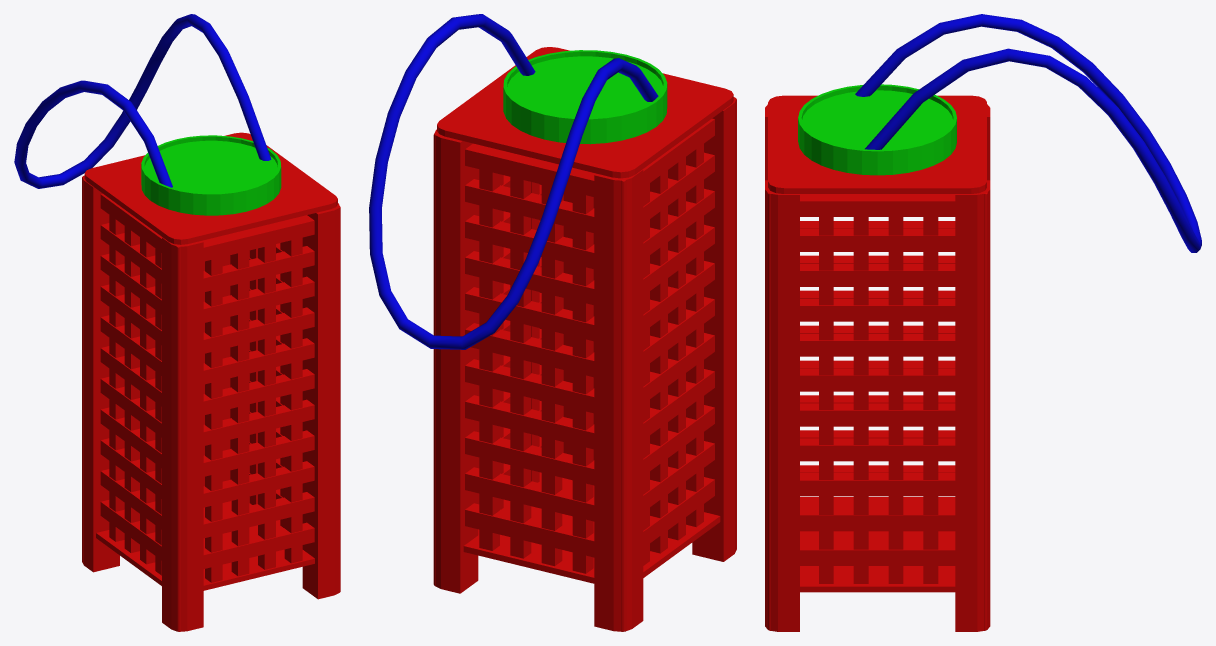
File: mv_LanternB.fbx
3 views of the same model, side by side, from view 1: azimuth 30°, elevation 25°; view 2: azimuth 150°, elevation 25°; view 3: azimuth 270°, elevation 25° (orthographic). The views are drawn at different scales.
Parts seen in each view (by area): view 1: LanternB_LOD0; view 2: LanternB_LOD0; view 3: LanternB_LOD0.
Part boxes in pixels (x1,y1,x2,y2): LanternB_LOD0: [14, 14, 340, 631]; LanternB_LOD0: [369, 14, 736, 631]; LanternB_LOD0: [765, 14, 1201, 631].
Size of what is drawn, in the model's own units: 18.88 by 53.75 by 37.6.
